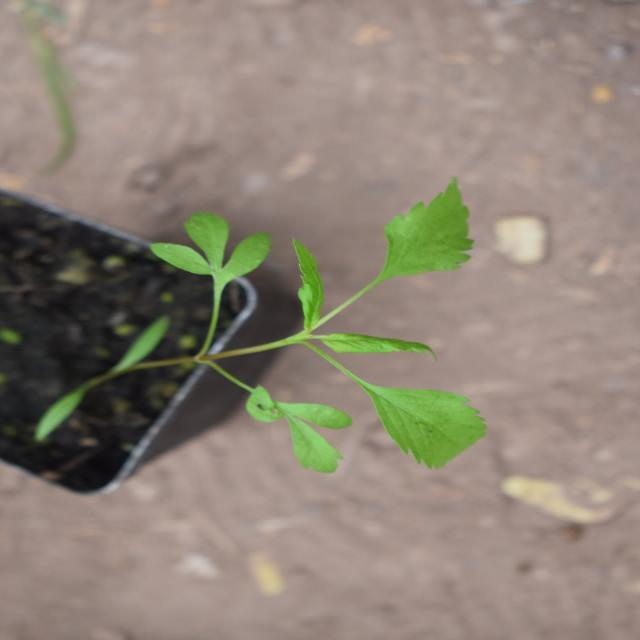Bidens pilosa: (131, 153, 457, 520)
